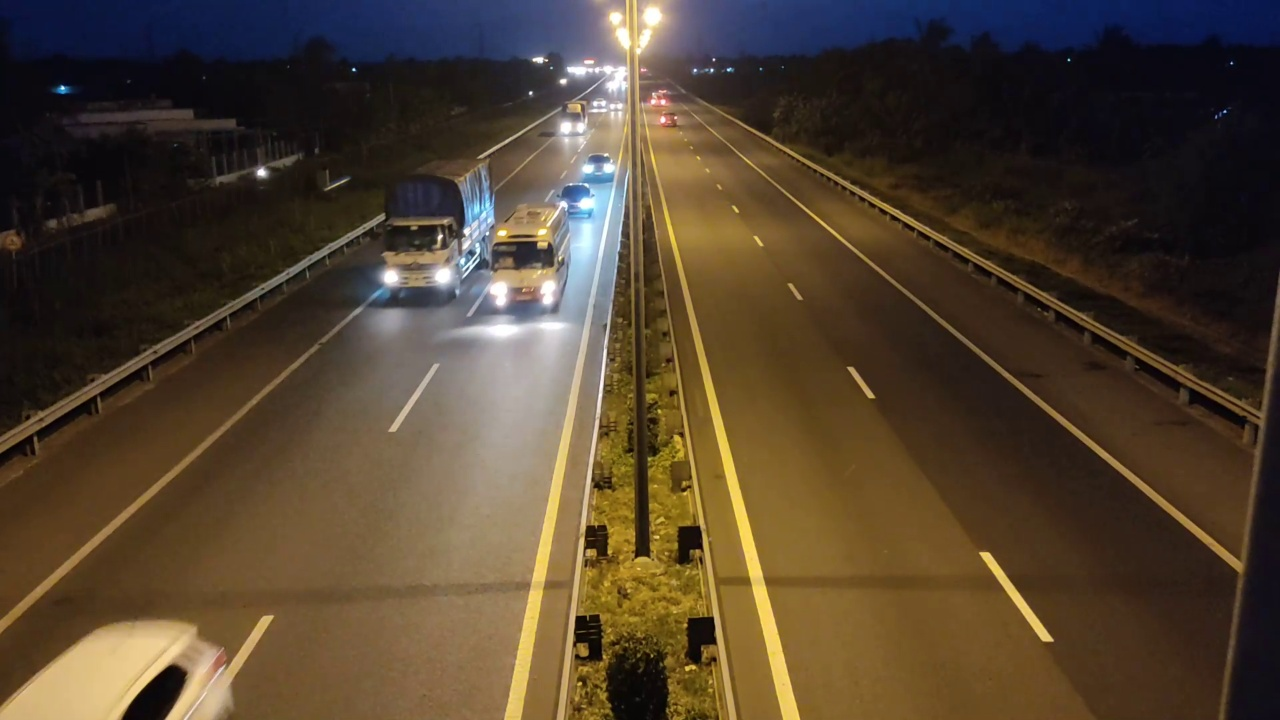bus: (486, 201, 574, 315)
car: (1, 619, 237, 719), (581, 153, 615, 182)
truck: (378, 157, 496, 305)
